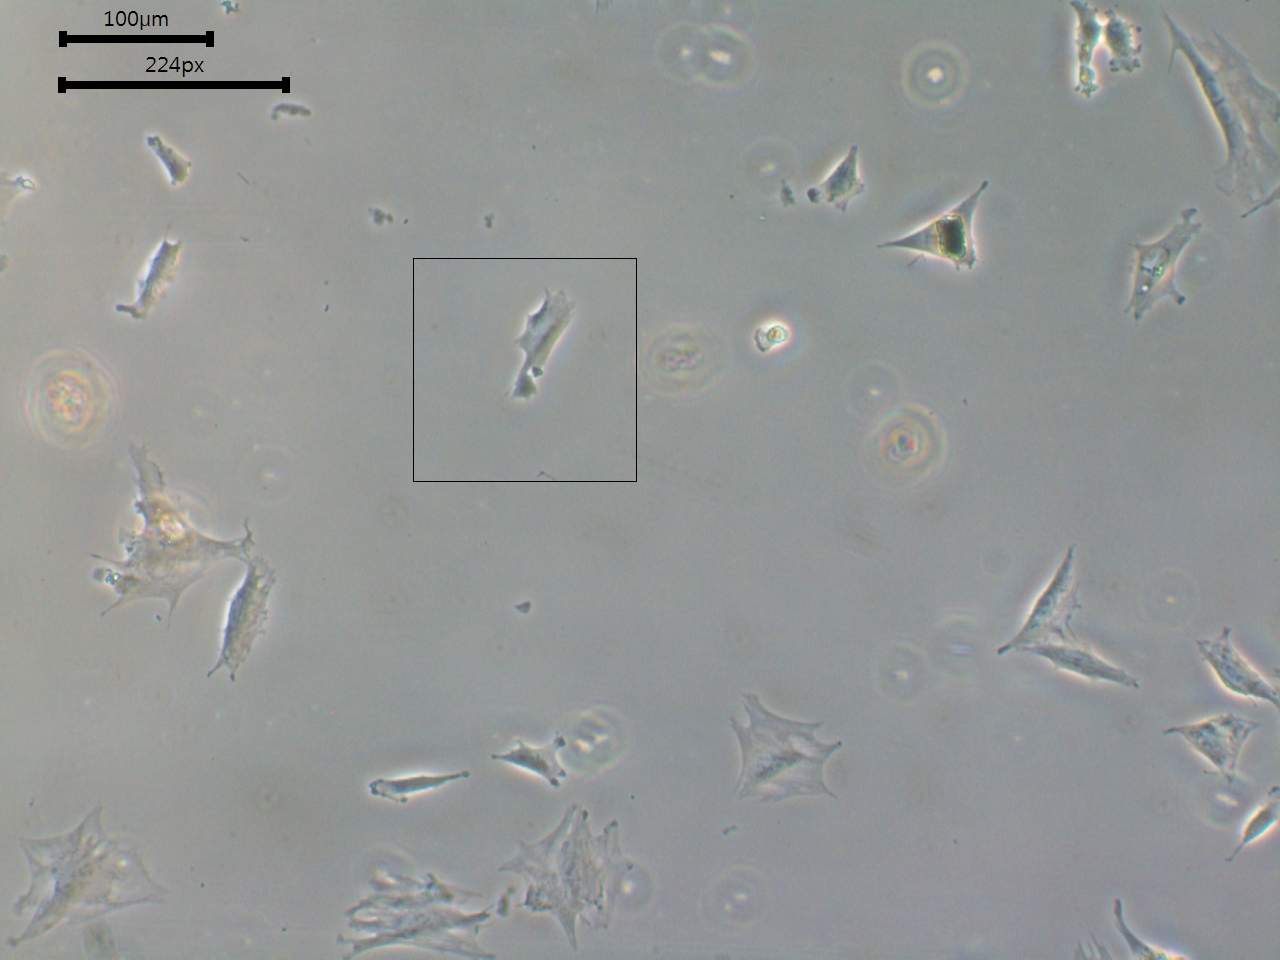medium-spread: (3, 793, 191, 952), (492, 799, 651, 956), (328, 848, 496, 960)
small-polygonal: (876, 169, 1007, 291), (1117, 202, 1226, 333), (983, 533, 1087, 652), (205, 554, 289, 693), (491, 279, 582, 408), (361, 748, 477, 826), (1155, 704, 1267, 783), (1025, 639, 1151, 700), (1188, 621, 1280, 704), (808, 138, 873, 229), (486, 732, 573, 793)
small-spread: (713, 676, 863, 829)
